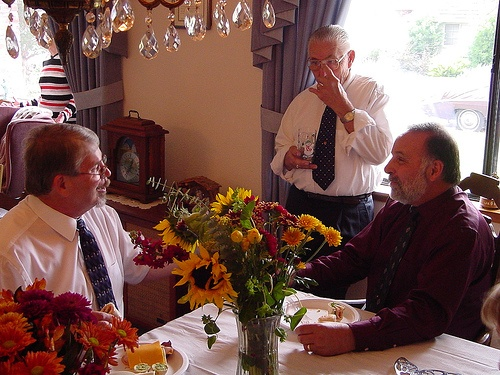head: (25, 121, 113, 212), (384, 123, 462, 207), (304, 24, 356, 92)
person: (285, 122, 495, 364), (1, 119, 185, 329), (266, 25, 393, 242)
